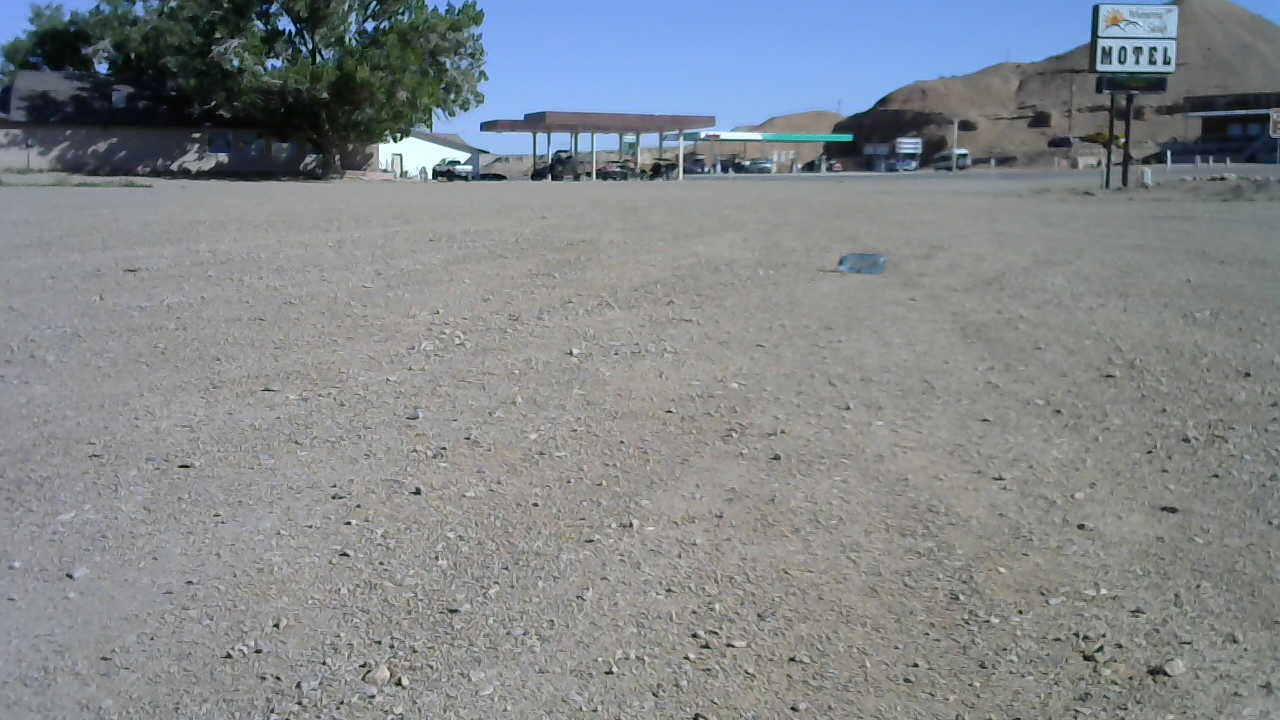bottle: (835, 249, 888, 276)
